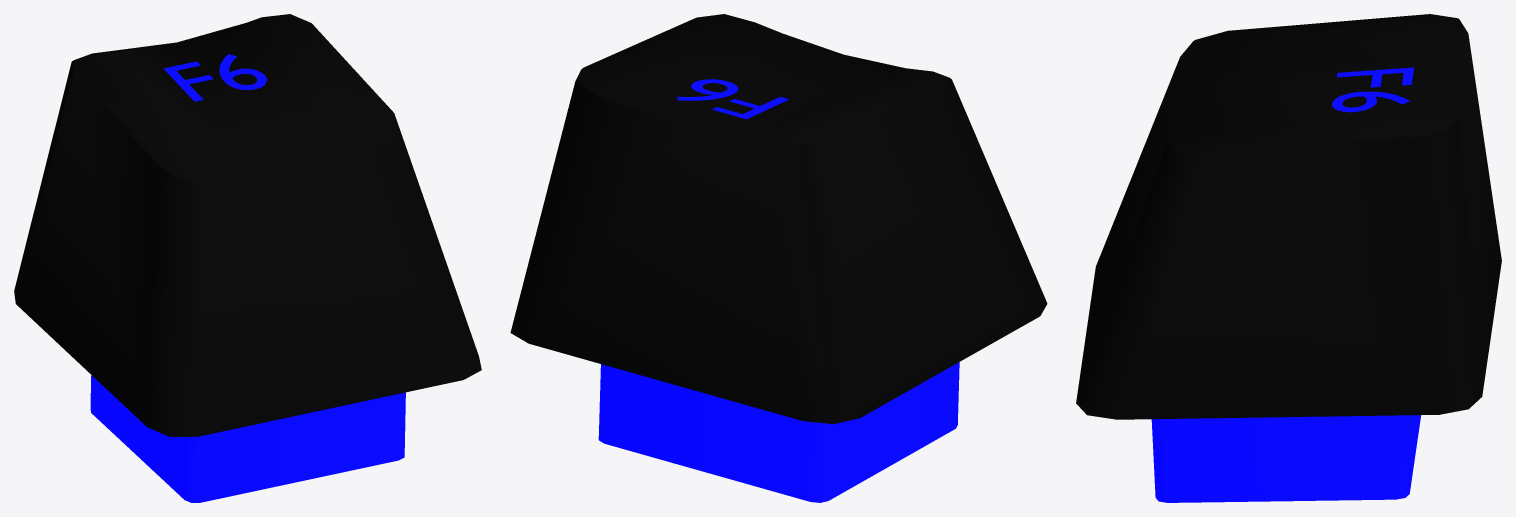
File: f6-BCzt4CQ2.glb
The picture shows the model from 3 angles, left to right: view 1: azimuth 30°, elevation 25°; view 2: azimuth 150°, elevation 25°; view 3: azimuth 270°, elevation 25°; orthographic projection. The views are drawn at different scales.
Parts seen in each view (by area): view 1: StudyShelf_1139; view 2: StudyShelf_1139; view 3: StudyShelf_1139.
Boxes of the visible parts, x1,y1,x2,y2 form: StudyShelf_1139: (14, 14, 481, 502); StudyShelf_1139: (510, 14, 1047, 502); StudyShelf_1139: (1076, 14, 1501, 502).
Size of the model in its own units: 4.35 by 4.28 by 4.35.
